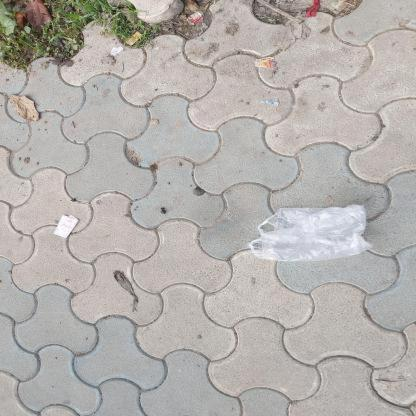Carton: (255, 56, 276, 68), (111, 46, 124, 56)
Paper: (54, 215, 79, 238)
Plastic bag - wrapper: (247, 204, 374, 262), (125, 31, 142, 46), (186, 12, 203, 25)
Unlabeled litter: (259, 99, 279, 106)
